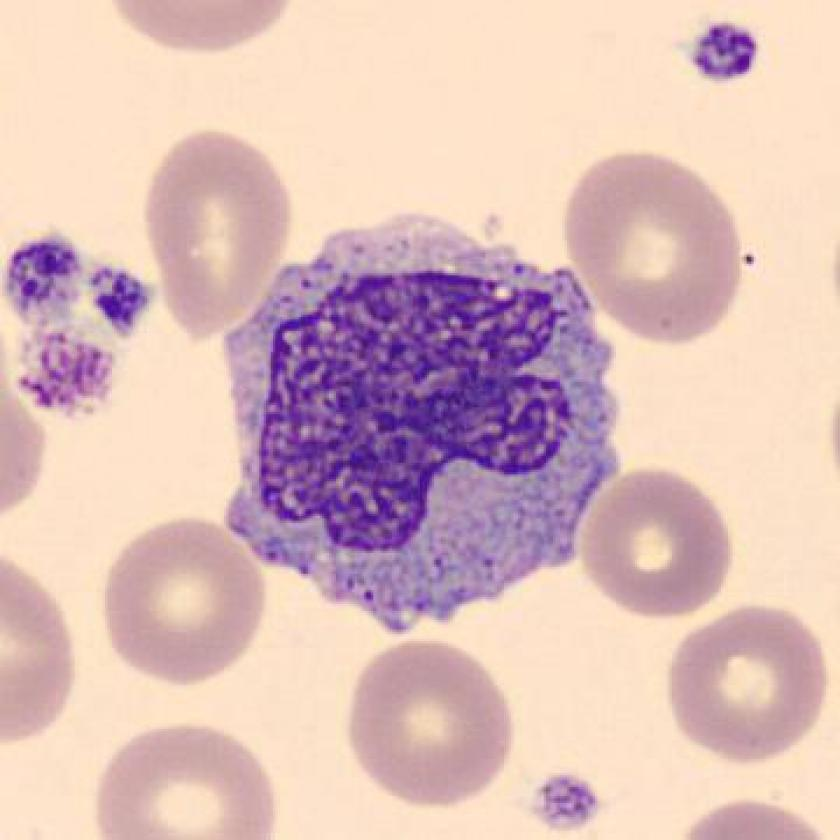monocyte: (195, 184, 640, 644)
